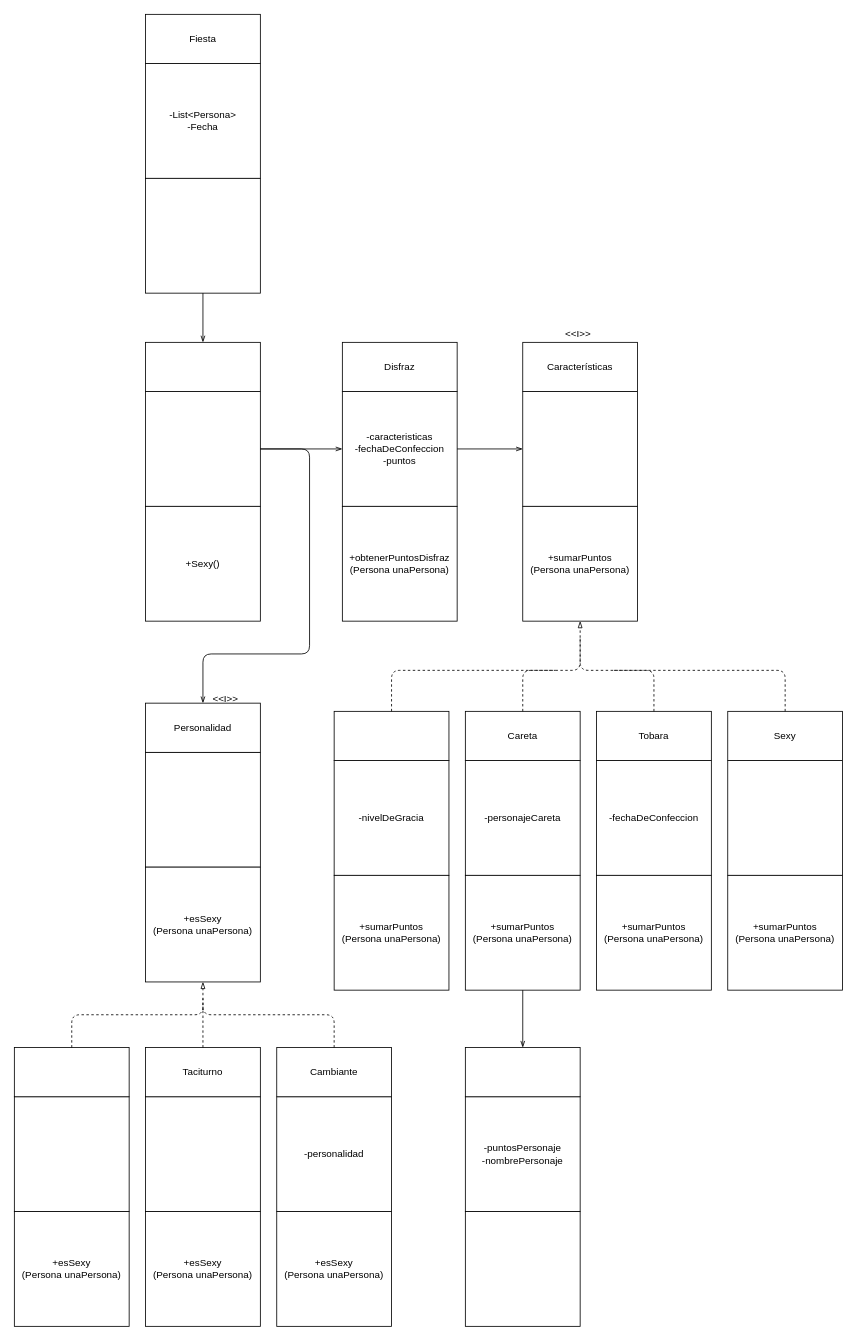
This 857x1341 diagram has some shape labels left out. The shapes that lost their labels are listed below. From the top down, each one's centre as x and y in pixels, then its label:
the point at 202,367: Persona
the point at 202,448: -nombre -edad -disfraz -fiesta -personalidad
the point at 391,736: Gracioso
the point at 71,1072: Alegre
the point at 522,1072: Personaje
